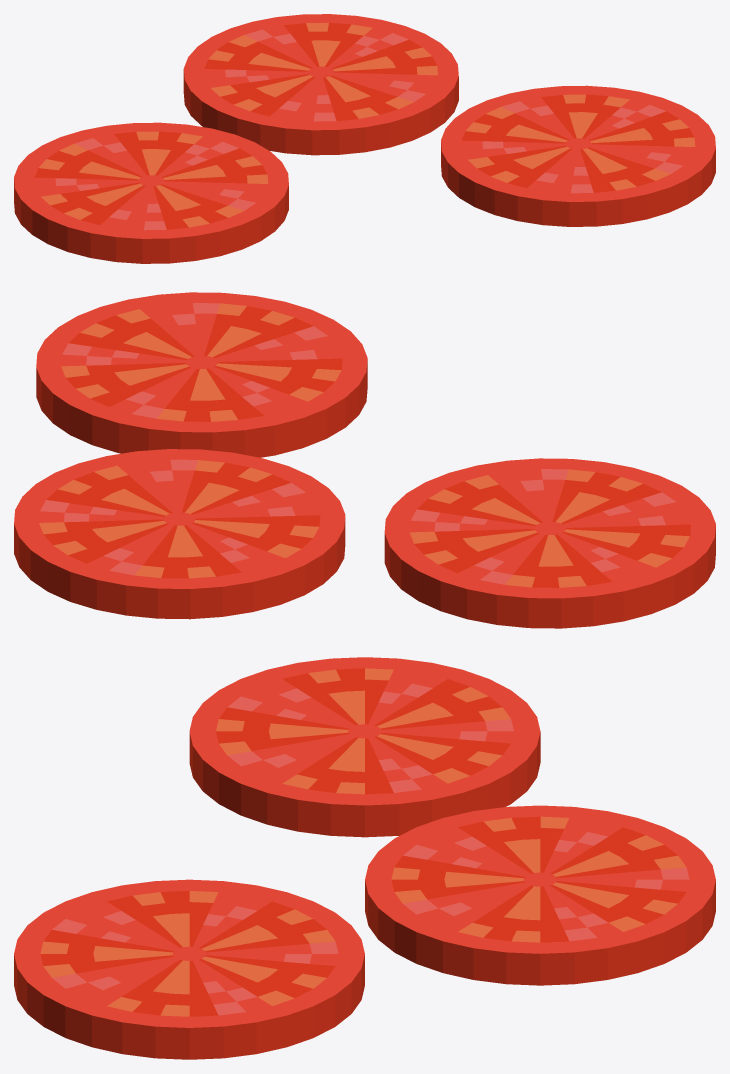
File: Tomato_Slices.fbx
3 renders of one model, top to bottom at view 1: azimuth 30°, elevation 25°; view 2: azimuth 150°, elevation 25°; view 3: azimuth 270°, elevation 25°, orthographic. The views are drawn at different scales.
Parts seen in each view (by area): view 1: Tomato_Slices; view 2: Tomato_Slices; view 3: Tomato_Slices.
Part boxes in pixels (x1=…): Tomato_Slices: x1=14, y1=14, x2=715, y2=263; Tomato_Slices: x1=14, y1=292, x2=715, y2=628; Tomato_Slices: x1=14, y1=657, x2=715, y2=1059.
Bounding box in the file's own units: 0.75 × 0.03 × 0.6.
